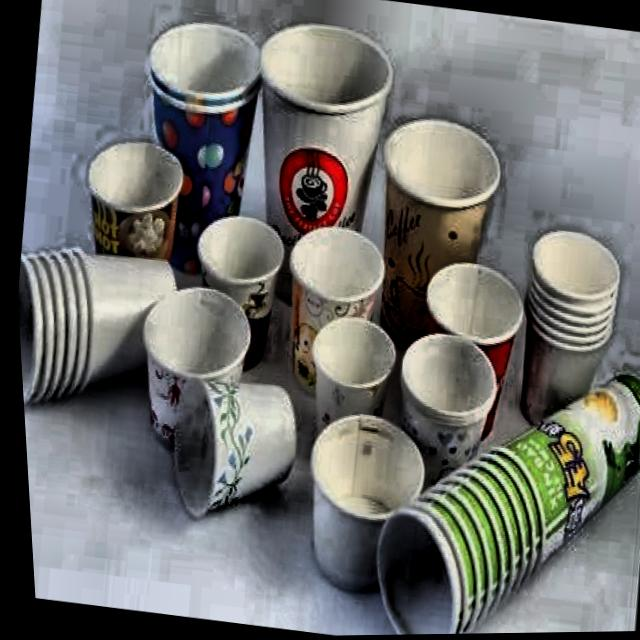Cup: (222, 8, 410, 319), (115, 9, 276, 289), (355, 101, 518, 361), (278, 393, 438, 616), (11, 230, 191, 427), (137, 362, 309, 535), (499, 217, 628, 438), (124, 273, 261, 460), (397, 254, 528, 446), (265, 218, 390, 412), (375, 325, 509, 501), (67, 138, 194, 316), (173, 214, 290, 382), (293, 316, 405, 470)
